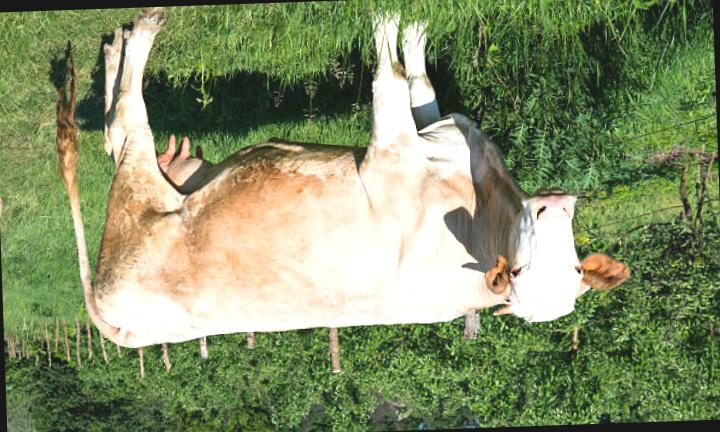Charolais: (59, 9, 629, 347)
